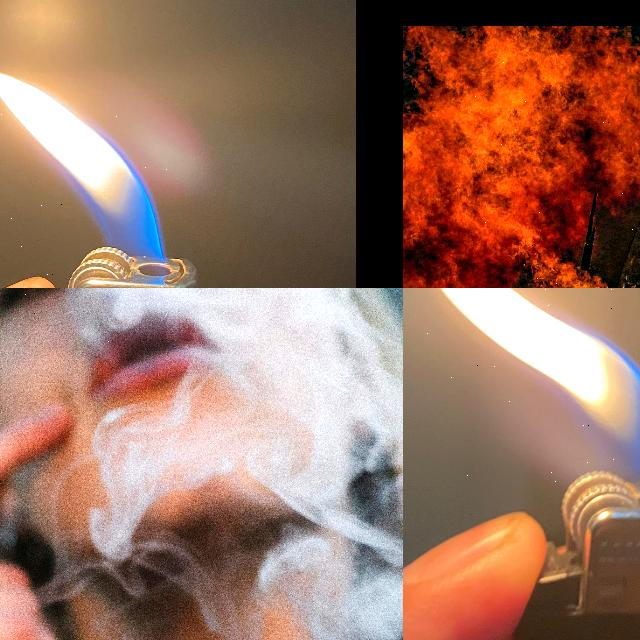fire: (0, 75, 196, 288), (438, 288, 640, 481), (488, 107, 640, 288)
smoke: (70, 288, 261, 346)
